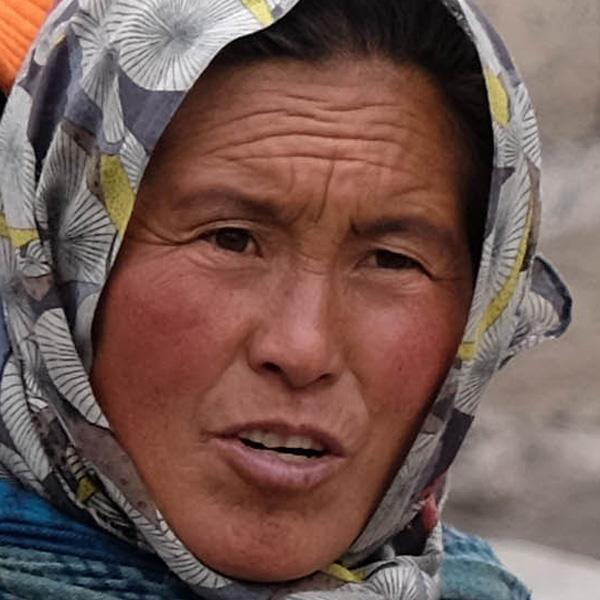Eyes: (179, 206, 271, 269), (340, 231, 438, 290)
